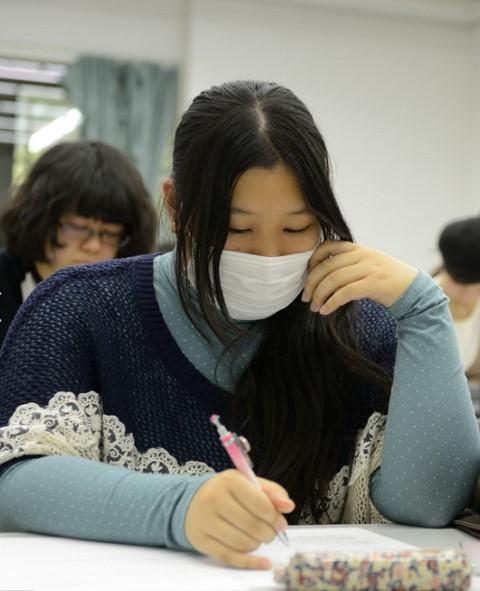face_with_mask: (164, 87, 326, 324)
